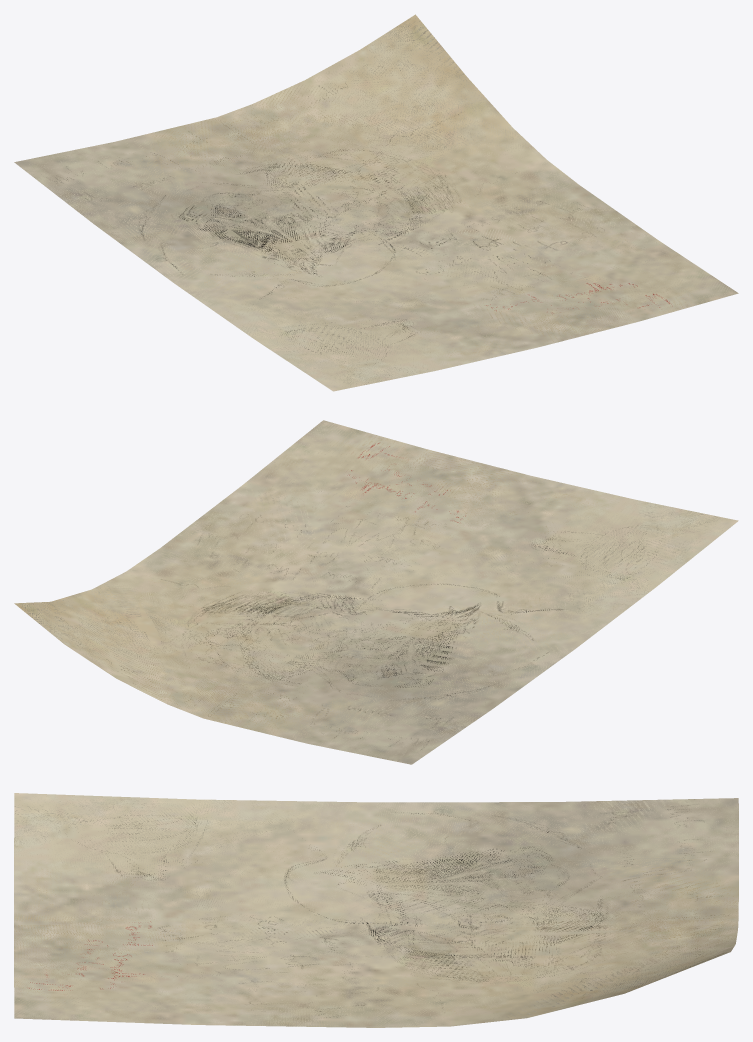
Rendered from upsilon_drawings_03.dae.
3 views of the same model, one above another, from view 1: azimuth 30°, elevation 25°; view 2: azimuth 150°, elevation 25°; view 3: azimuth 270°, elevation 25° (orthographic). The views are drawn at different scales.
Visible parts, largest first — view 1: construct; view 2: construct; view 3: construct.
Part boxes in pixels (<box>): construct: <box>14,14,738,391</box>; construct: <box>14,420,738,764</box>; construct: <box>14,793,738,1027</box>.
Bounding box in the file's own units: 0.3849 × 0.0598 × 0.5251.
